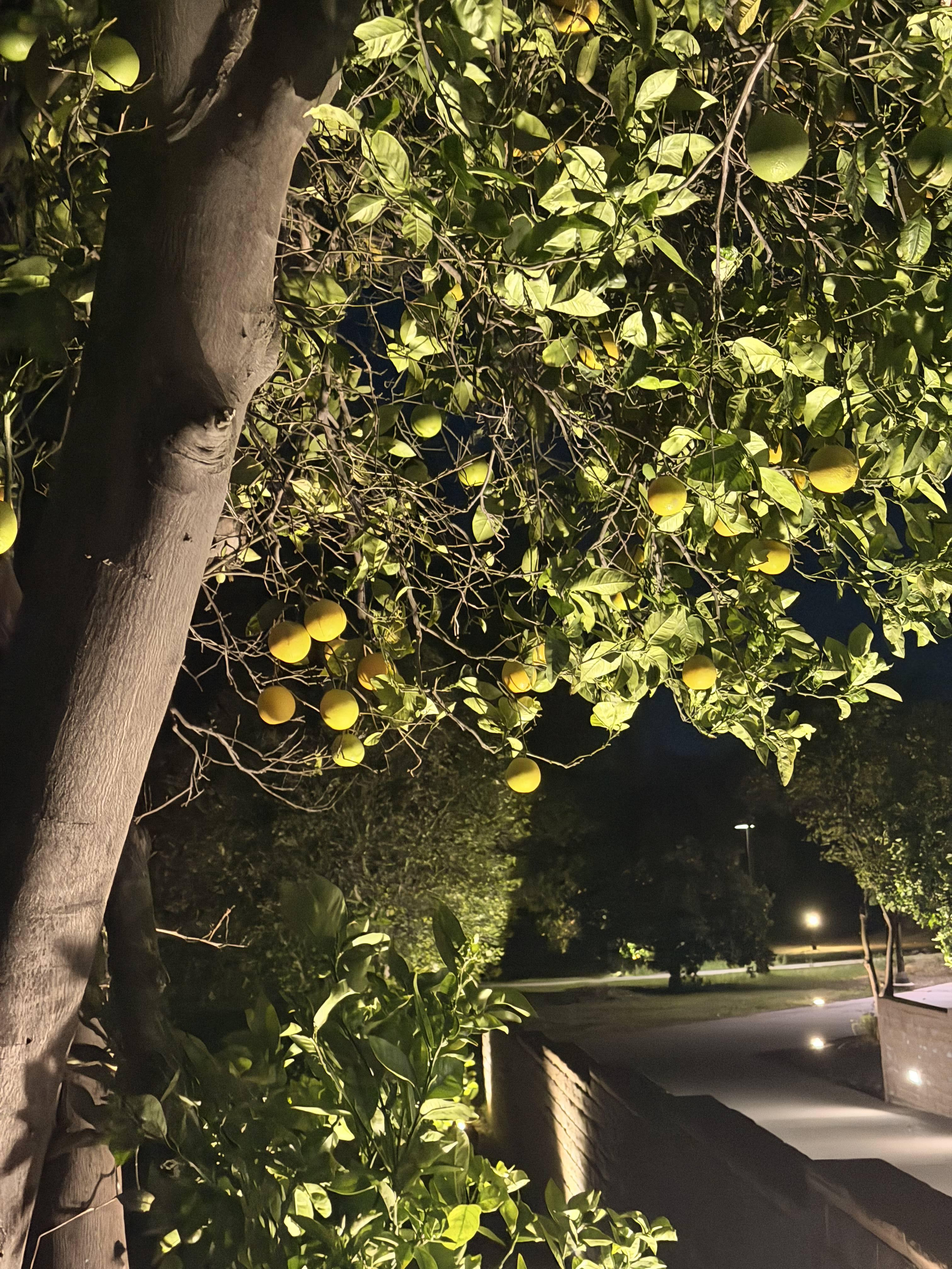orange: (746, 111, 809, 182), (907, 126, 952, 187), (91, 34, 140, 90), (0, 11, 50, 60), (809, 445, 858, 493), (542, 0, 599, 32), (268, 621, 311, 663), (304, 599, 346, 641), (578, 328, 619, 370), (320, 689, 359, 731), (257, 685, 296, 725), (648, 476, 686, 516), (682, 654, 717, 691), (505, 757, 540, 793), (502, 660, 536, 694), (756, 541, 790, 575), (714, 503, 748, 537), (332, 732, 364, 767), (357, 653, 388, 687), (411, 404, 442, 438), (458, 454, 488, 487), (0, 500, 18, 554), (610, 581, 642, 610)
